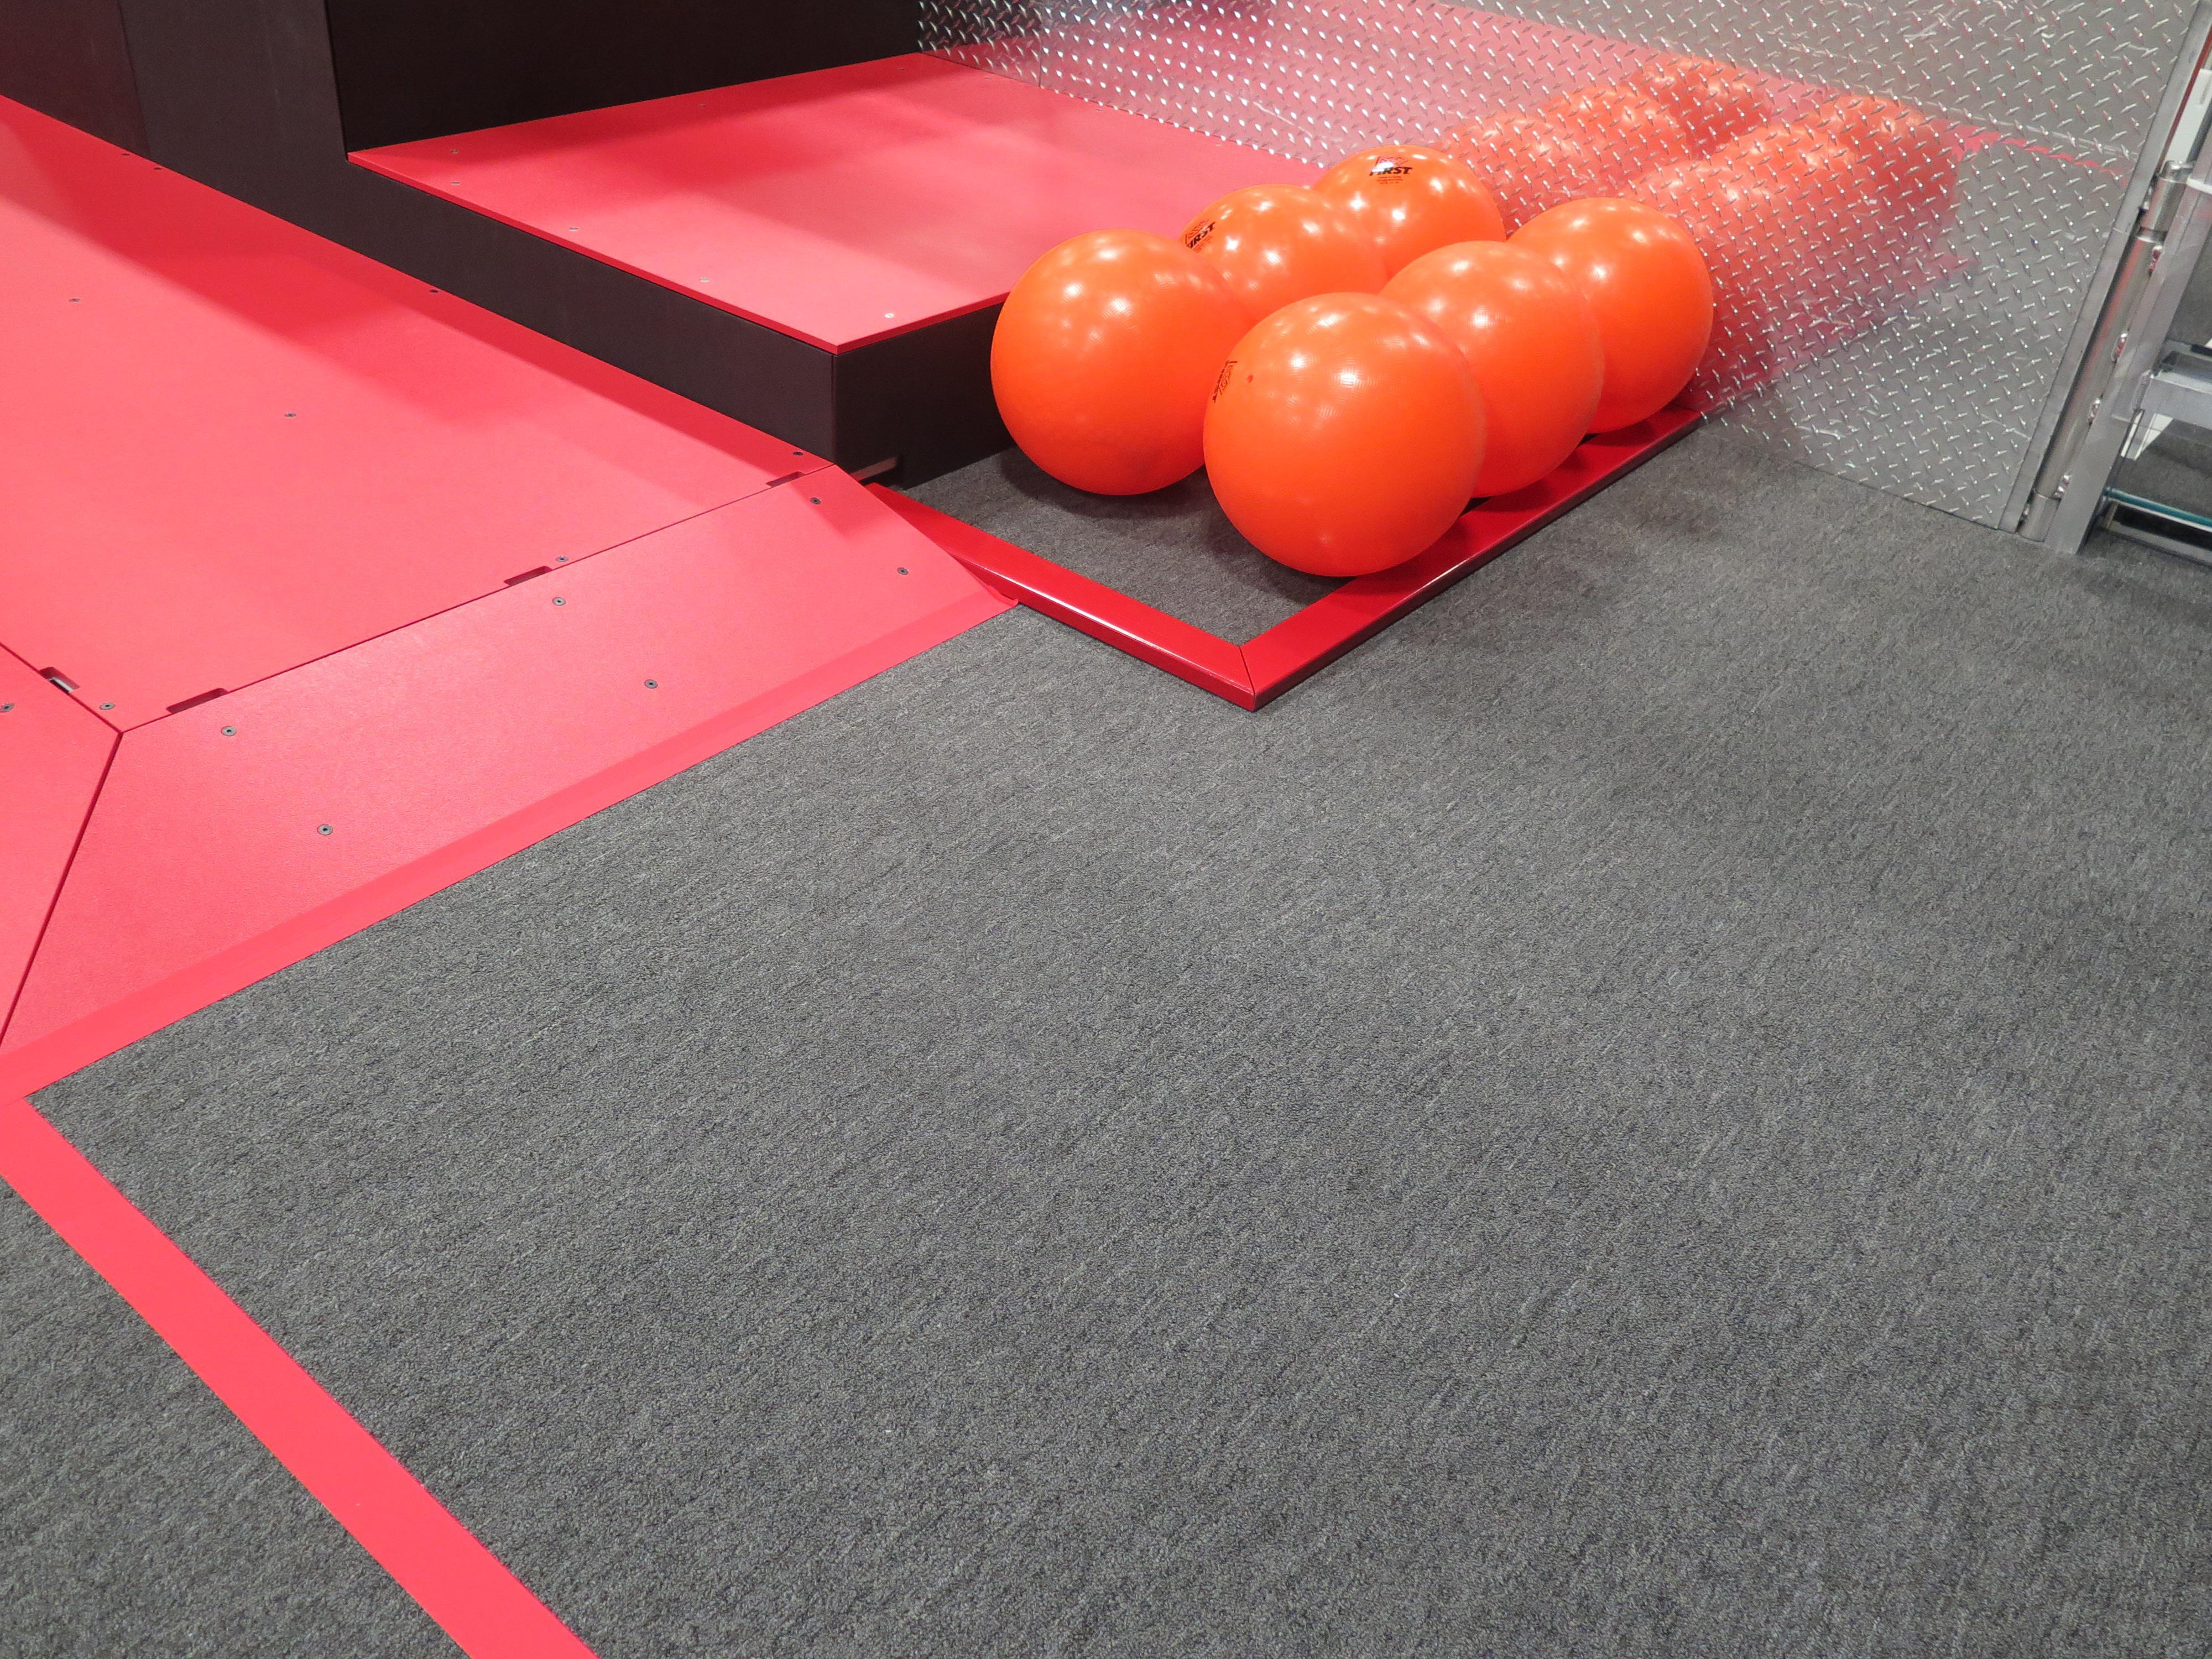Ball: (1202, 291, 1480, 573), (988, 227, 1263, 497), (1374, 235, 1606, 495), (1498, 193, 1716, 432), (1186, 183, 1388, 335), (1306, 145, 1512, 291)
